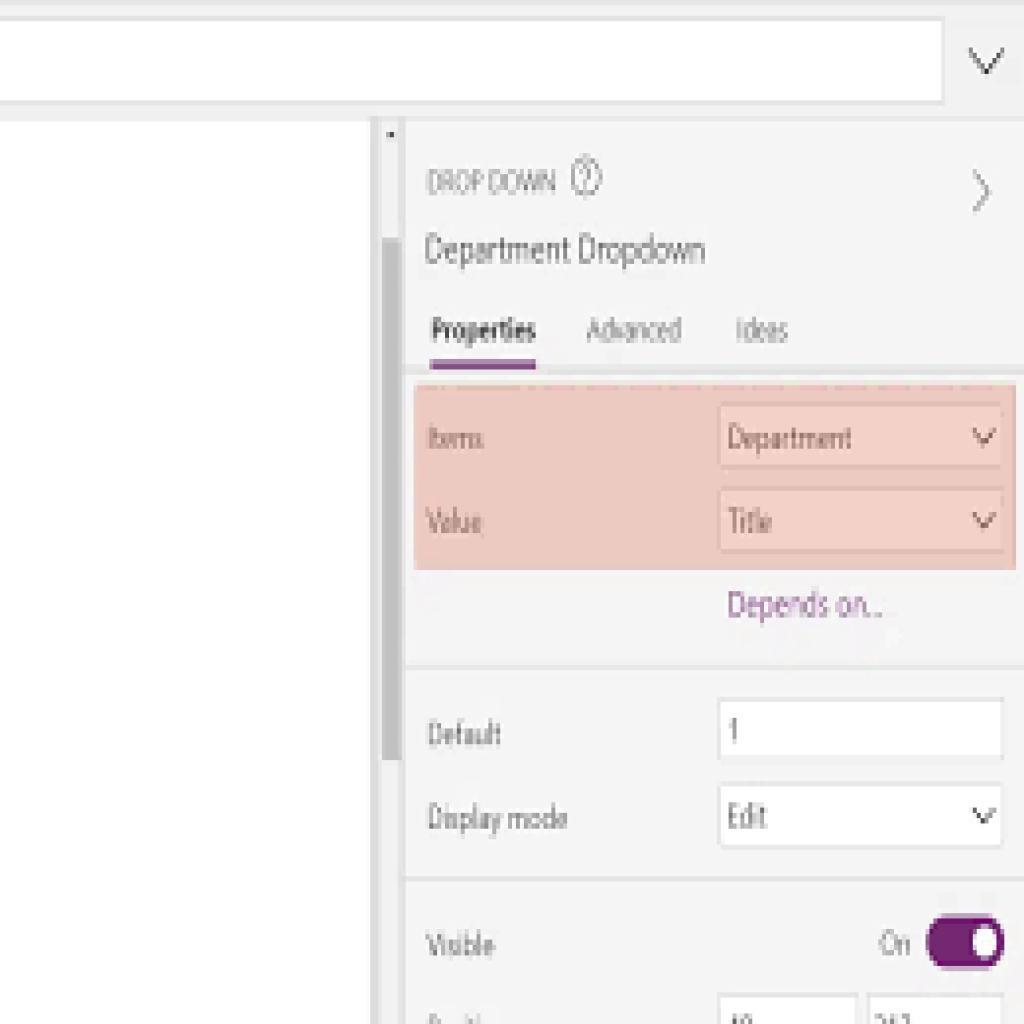dropdown: (1, 1, 1024, 114), (717, 782, 1005, 849), (720, 487, 1005, 553), (719, 403, 1002, 468)
input: (722, 698, 1002, 757)
label: (427, 233, 710, 277), (424, 798, 576, 842), (430, 312, 545, 349), (582, 312, 687, 350), (425, 715, 509, 751), (422, 931, 501, 964), (732, 311, 794, 352), (424, 424, 496, 456), (422, 504, 488, 537)
switch: (926, 915, 1006, 972)
